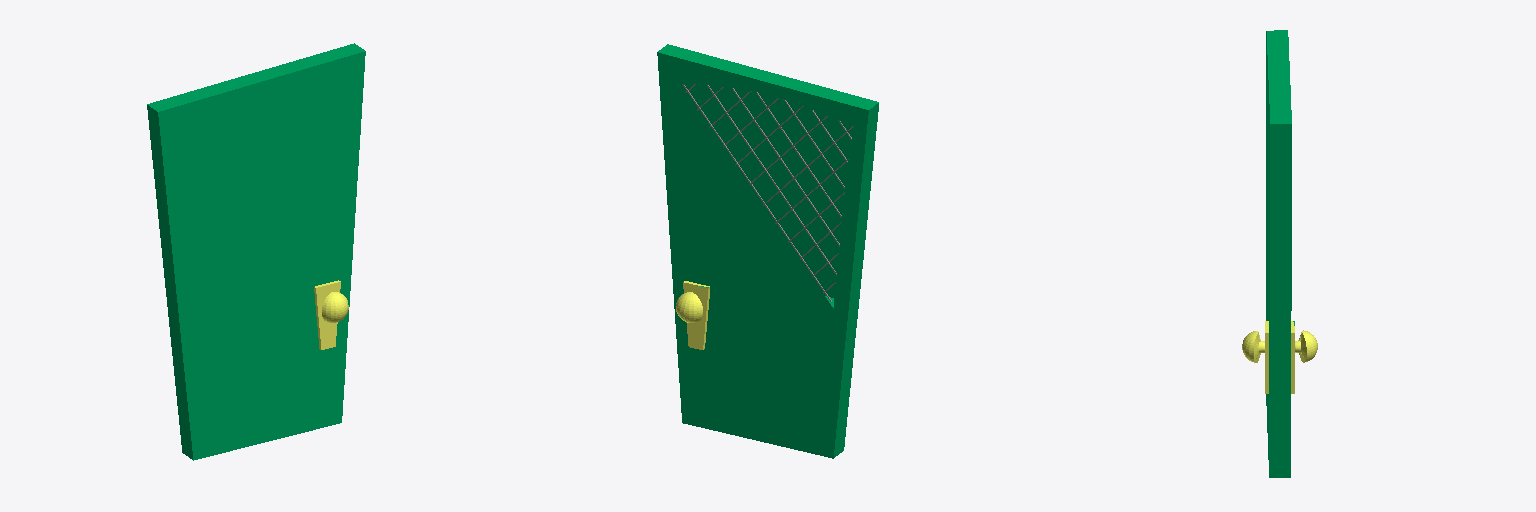
3 renders of one model, left to right at view 1: azimuth 30°, elevation 25°; view 2: azimuth 150°, elevation 25°; view 3: azimuth 270°, elevation 25°, orthographic.
Parts seen in each view (by area): view 1: polySurface25; view 2: polySurface25; view 3: polySurface25.
Part boxes in pixels (left/top/right/bottom): polySurface25: left=147, top=43, right=365, bottom=460; polySurface25: left=657, top=44, right=878, bottom=458; polySurface25: left=1242, top=30, right=1317, bottom=477.
Bounding box in the file's own units: 4.27 × 7.09 × 1.34.
2 materials, 2 textured.